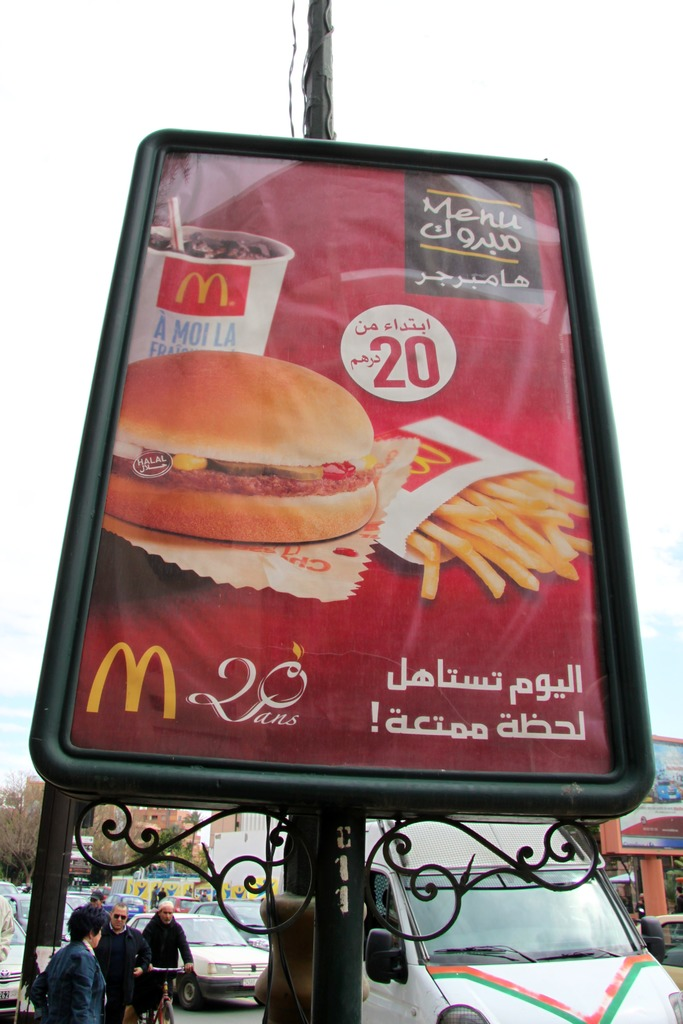Hamburger: (104, 349, 377, 543)
